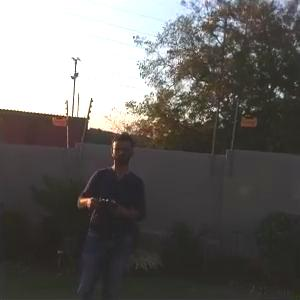follow: (68, 127, 151, 298)
